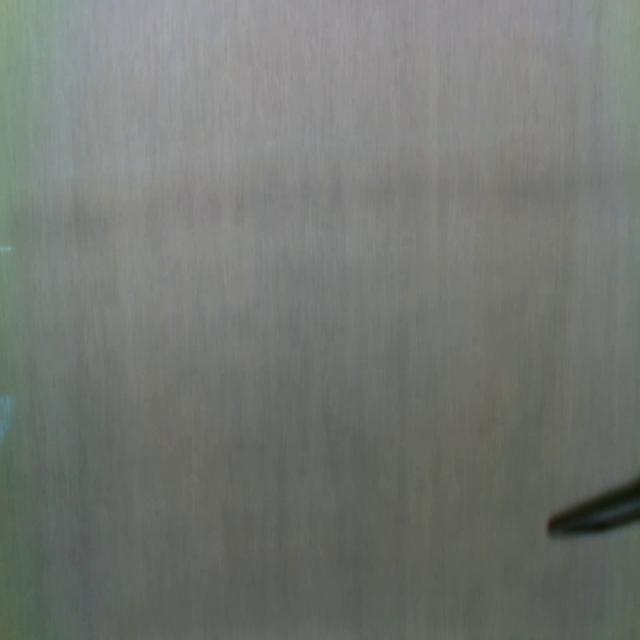color bleeding: (0, 123, 638, 252)
